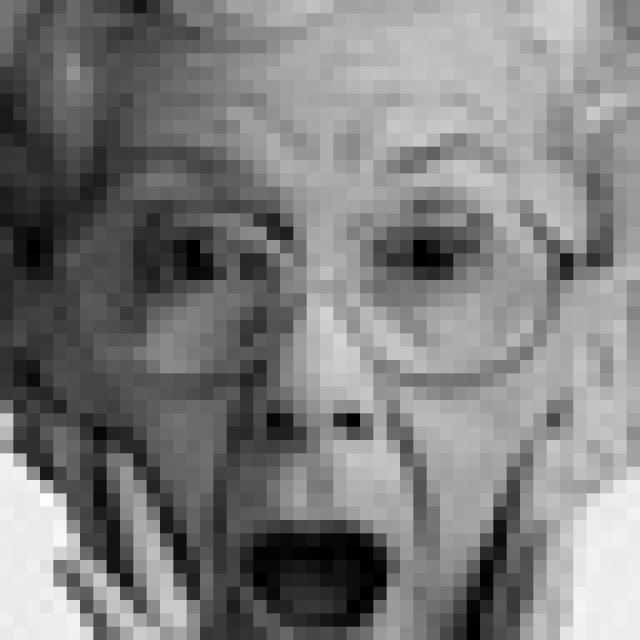surprise: (115, 134, 548, 640)
